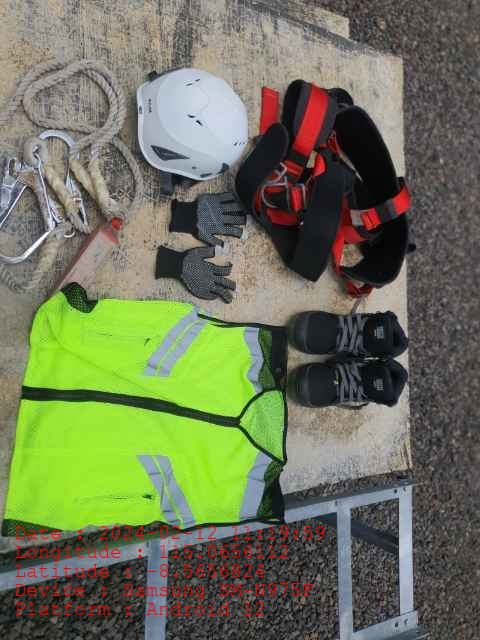HELM: (136, 68, 248, 183)
ROMPI: (5, 287, 286, 525)
SARUNG_TANGAN: (154, 244, 235, 305), (170, 191, 246, 246)
SEPATU: (288, 310, 409, 408)
TAMBANG_SLING: (1, 59, 145, 271)
